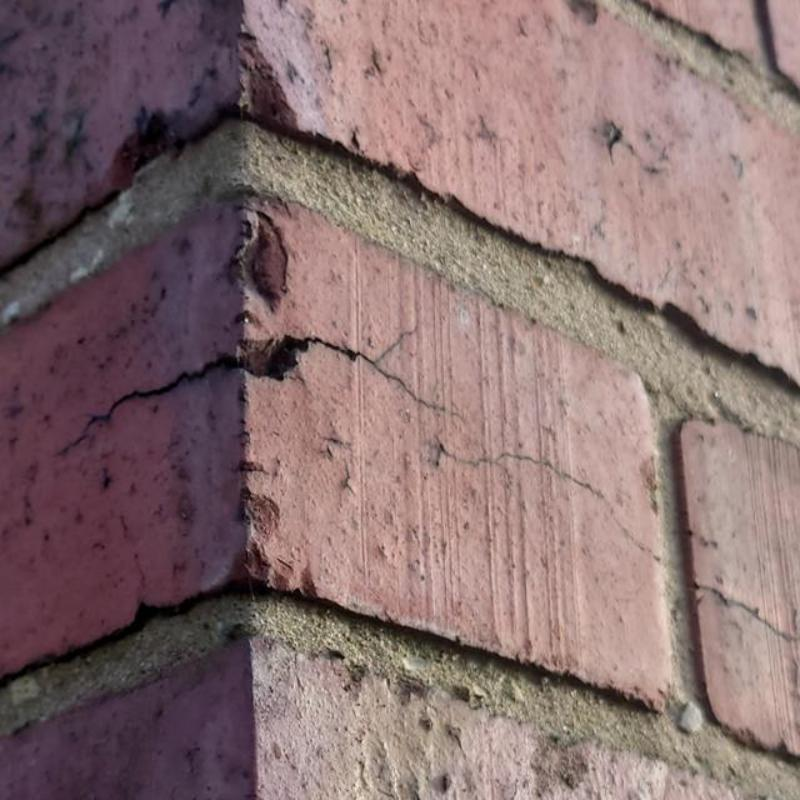crack: (54, 318, 468, 454), (433, 435, 605, 498), (696, 582, 800, 643), (609, 506, 662, 563)
